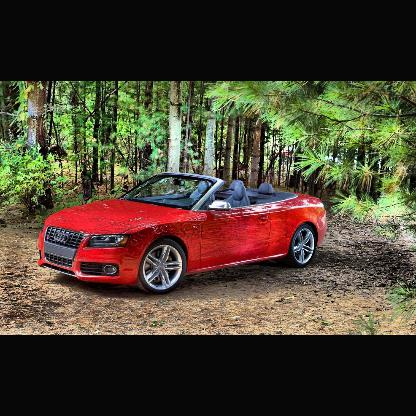Audi S5 Convertible 2012: (37, 172, 328, 296)
